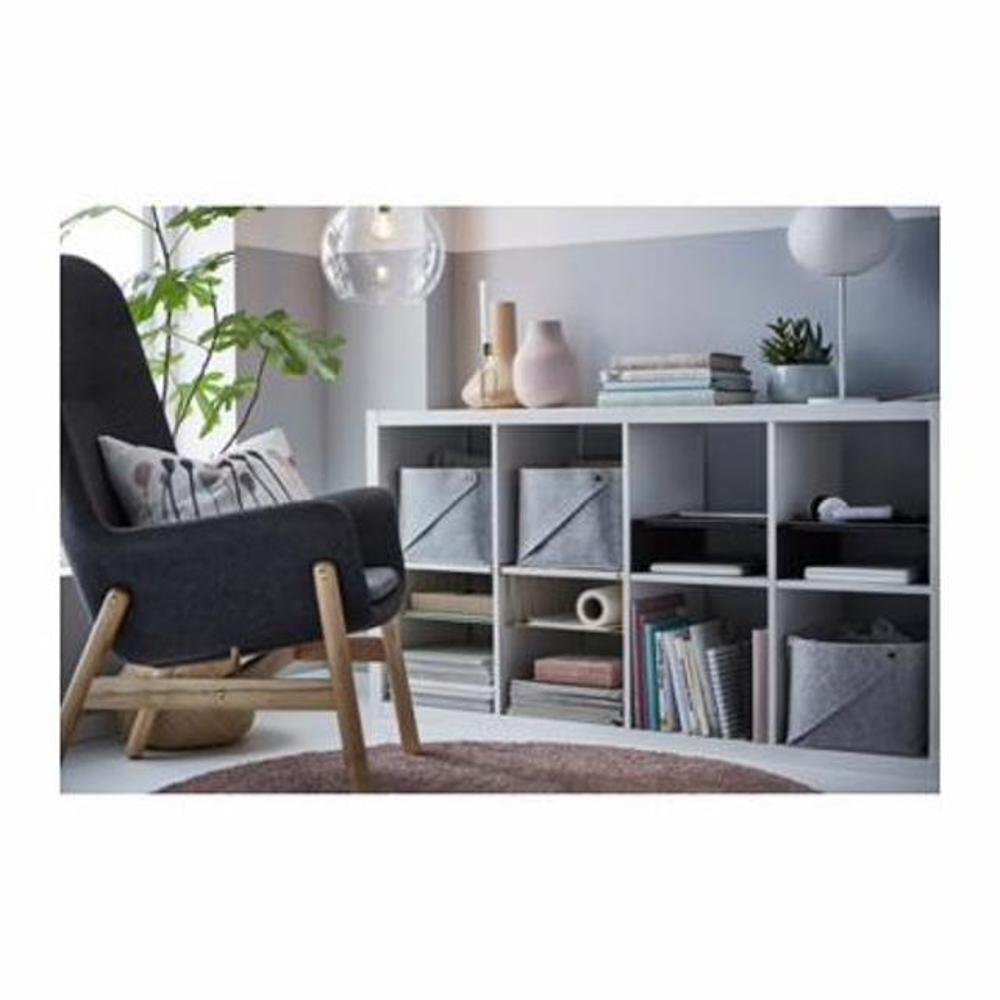lamp: (361, 406, 939, 788)
